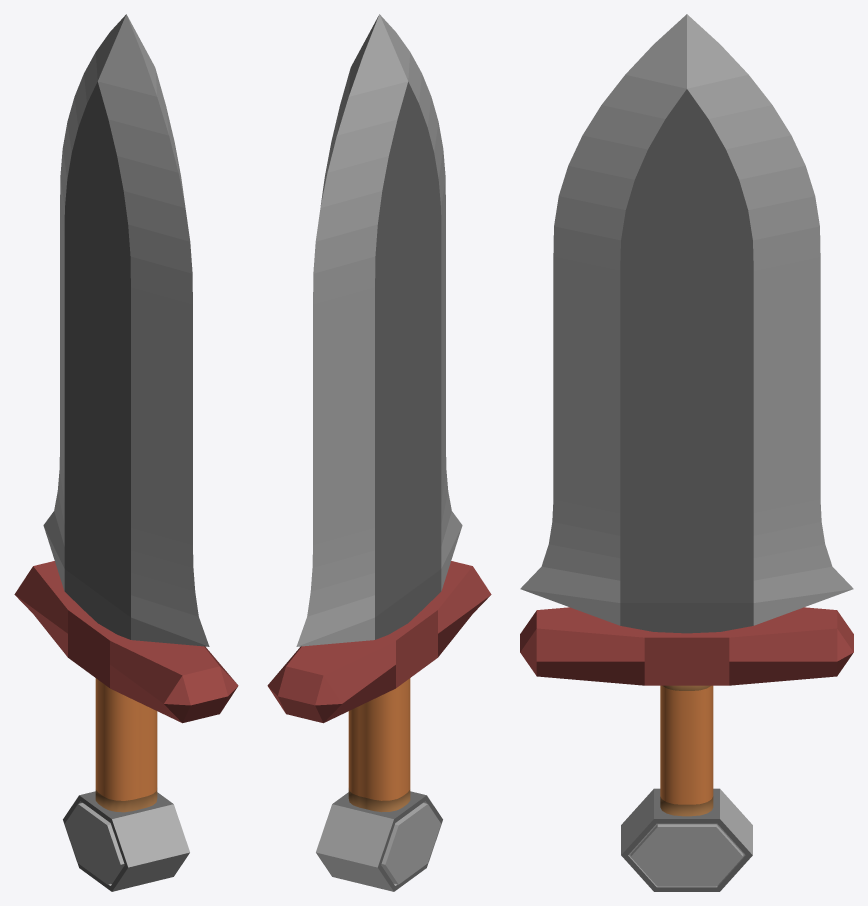
Rendered from Dagger.fbx.
3 renders of one model, left to right at view 1: azimuth 30°, elevation 25°; view 2: azimuth 150°, elevation 25°; view 3: azimuth 270°, elevation 25°, orthographic.
Visible parts, largest first — view 1: Dagger; view 2: Dagger; view 3: Dagger.
Part boxes in pixels (x1=…): Dagger: x1=14, y1=14, x2=238, y2=891; Dagger: x1=267, y1=14, x2=491, y2=891; Dagger: x1=520, y1=14, x2=853, y2=891.
Size of the model in its own units: 26 by 285 by 100.
